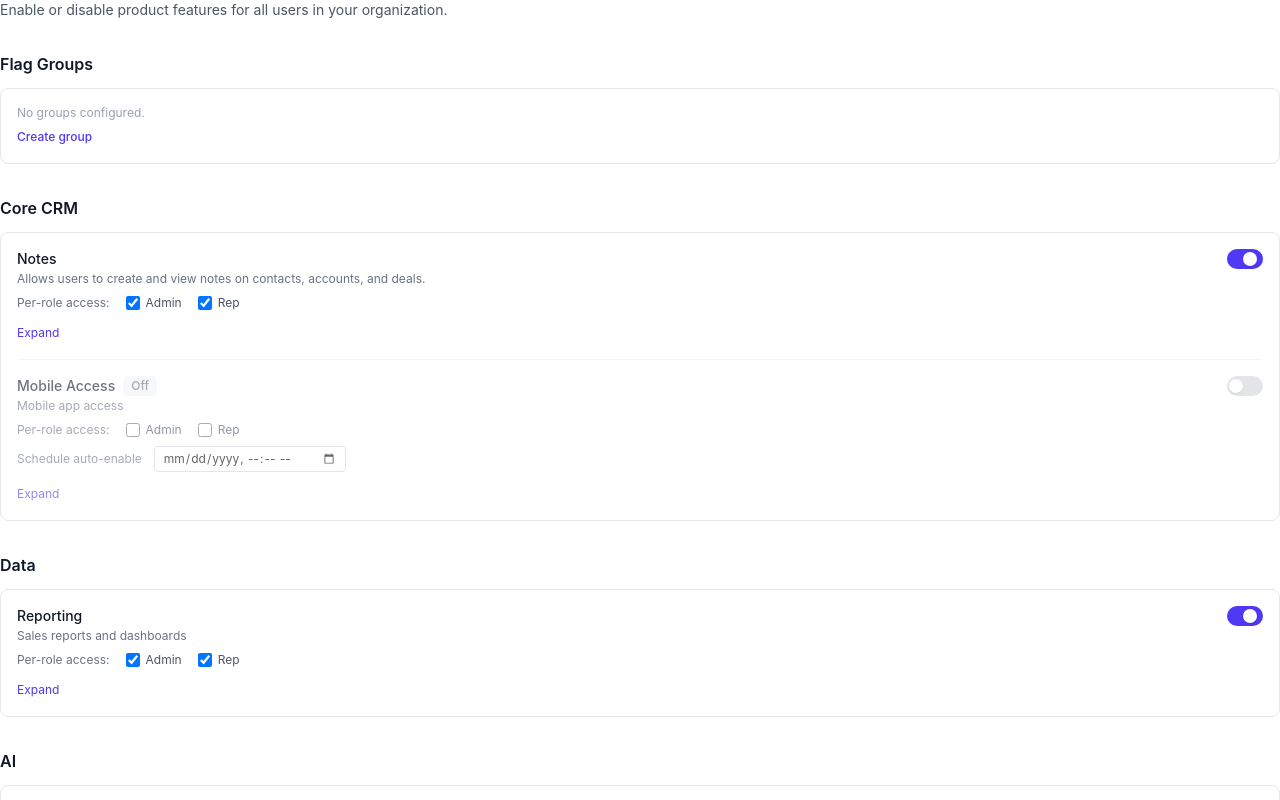
FeatureFlagsSettings › cancels without mutation when cancel is clicked
The image size is (1280, 800).
Click the switch with test id "feature-flag-toggle-notes".
click(1245, 259)  # box left=1227, top=249, right=1263, bottom=269
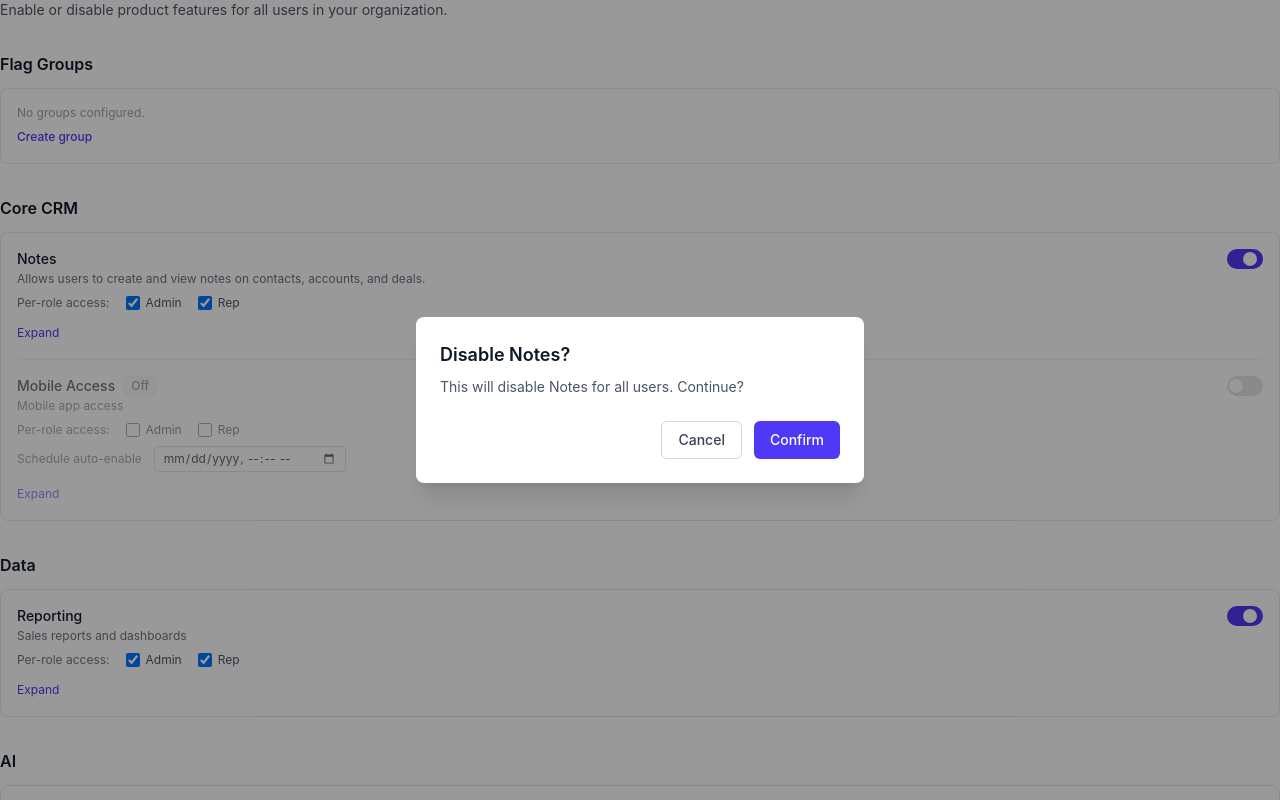
Expected: the dialog with test id "feature-flag-confirm-dialog" is shown
Click the button with test id "feature-flag-confirm-cancel".
click(702, 440)  # box left=662, top=421, right=742, bottom=459
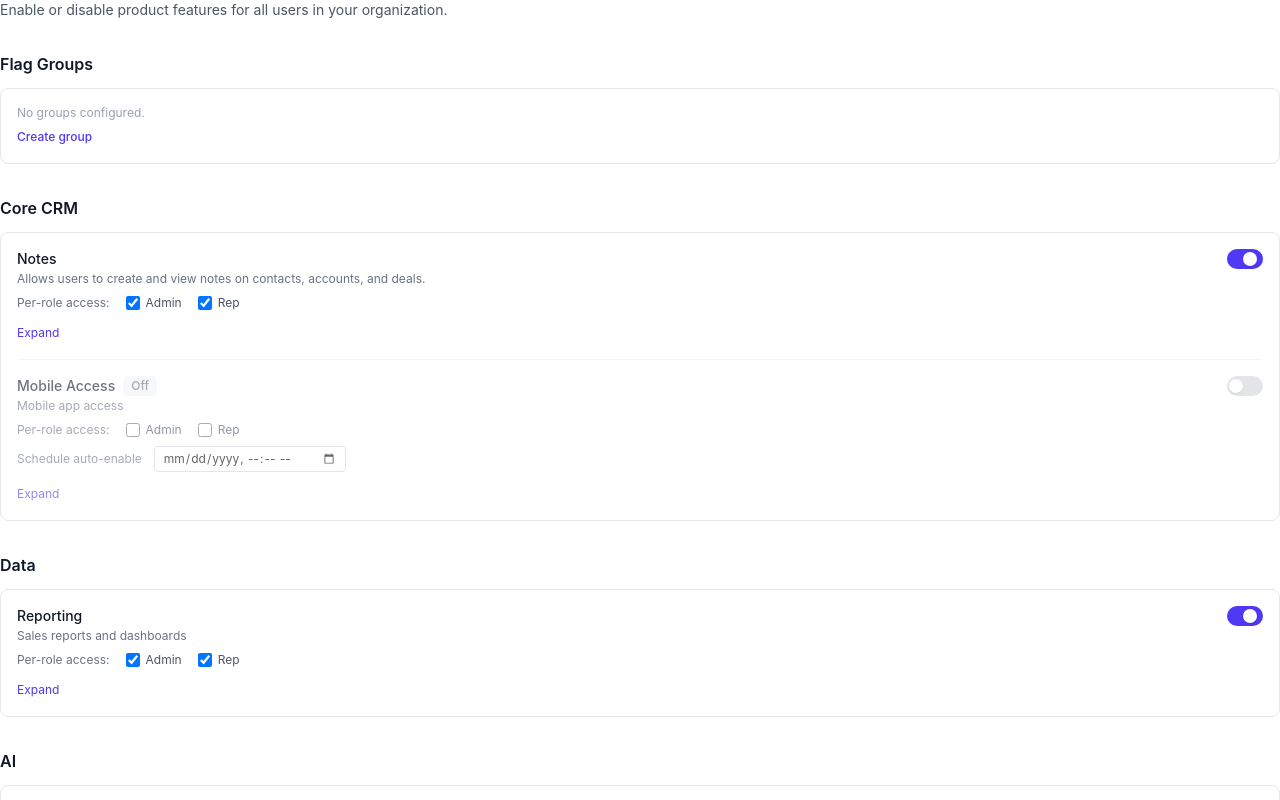
Expected: the dialog with test id "feature-flag-confirm-dialog" is gone
